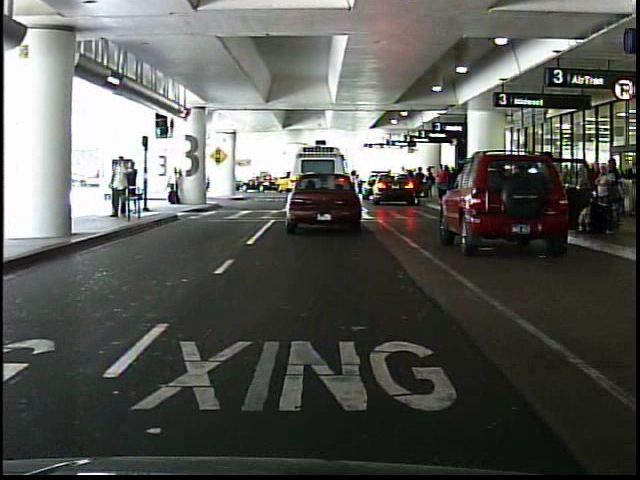person: (532, 149, 567, 236), (108, 153, 132, 223), (127, 158, 143, 219), (165, 168, 185, 209), (436, 164, 452, 203)
